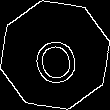O_N: (28, 25, 82, 85)
